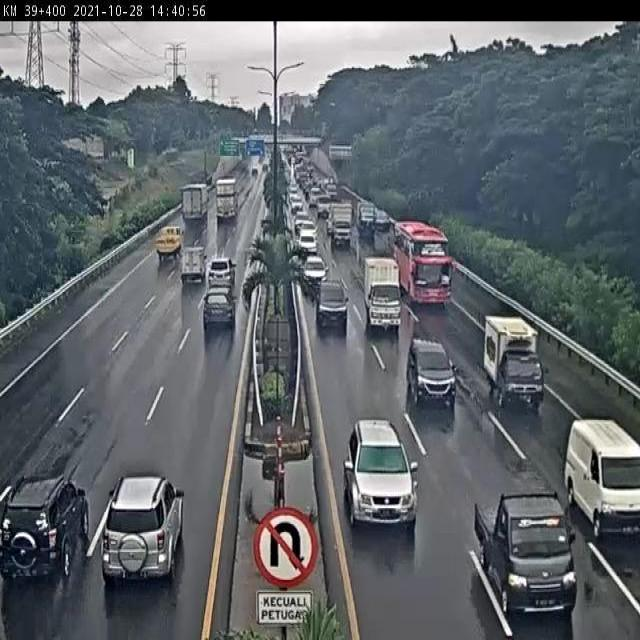bus-l-: (394, 220, 455, 303)
car: (474, 487, 578, 617), (0, 474, 91, 586), (102, 476, 185, 584), (566, 421, 640, 539), (345, 416, 418, 524), (407, 336, 458, 408), (315, 277, 352, 332), (201, 288, 236, 332), (206, 256, 237, 292), (302, 253, 329, 287)
small truck: (153, 223, 184, 261), (178, 244, 207, 279)
truck-m-: (363, 259, 402, 332)
truck-s-: (481, 313, 545, 408)
